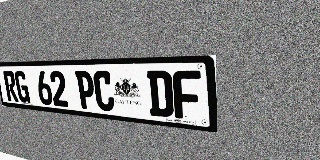2: (49, 71, 68, 107)
6: (35, 71, 54, 106)
C: (93, 71, 115, 112)
D: (147, 71, 174, 118)
F: (172, 71, 202, 121)
G: (14, 71, 30, 103)
P: (75, 71, 96, 110)
R: (3, 71, 19, 102)
